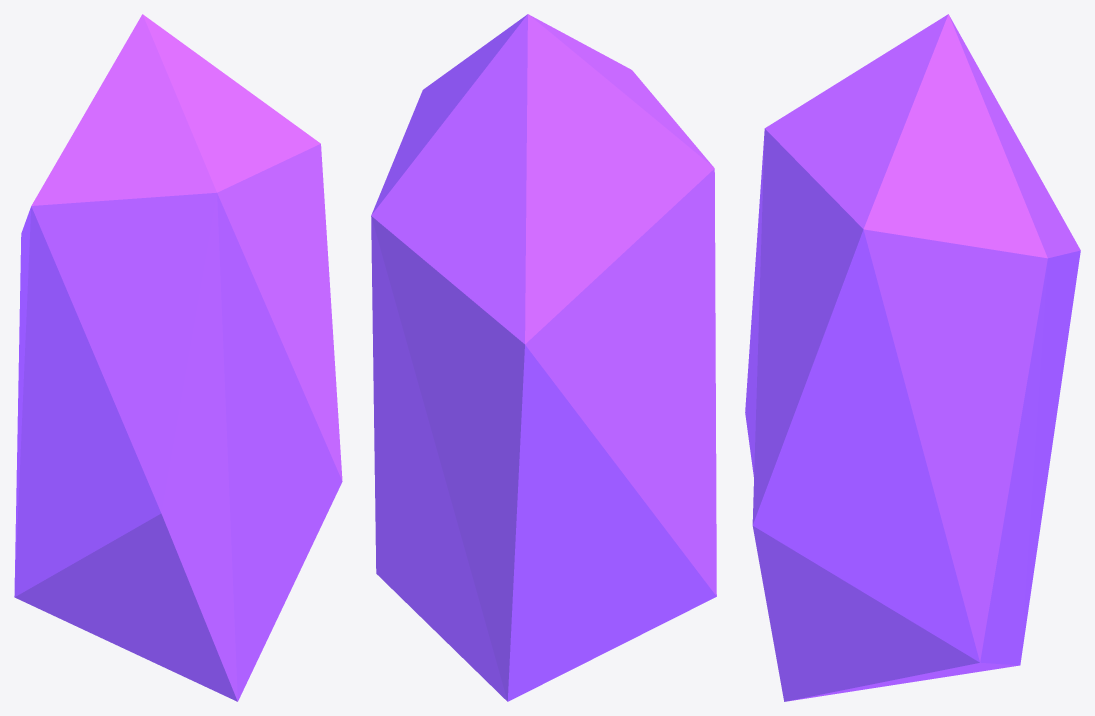
File: Crystal.glb
The picture shows the model from 3 angles, left to right: view 1: azimuth 30°, elevation 25°; view 2: azimuth 150°, elevation 25°; view 3: azimuth 270°, elevation 25°; orthographic projection. The views are drawn at different scales.
Visible parts, largest first — view 1: Final_Crystal; view 2: Final_Crystal; view 3: Final_Crystal.
Boxes of the visible parts, x1=… form: Final_Crystal: x1=14, y1=14, x2=342, y2=701; Final_Crystal: x1=371, y1=14, x2=716, y2=701; Final_Crystal: x1=745, y1=14, x2=1080, y2=701.
Bounding box in the file's own units: 34.84 × 72.69 × 32.6.
